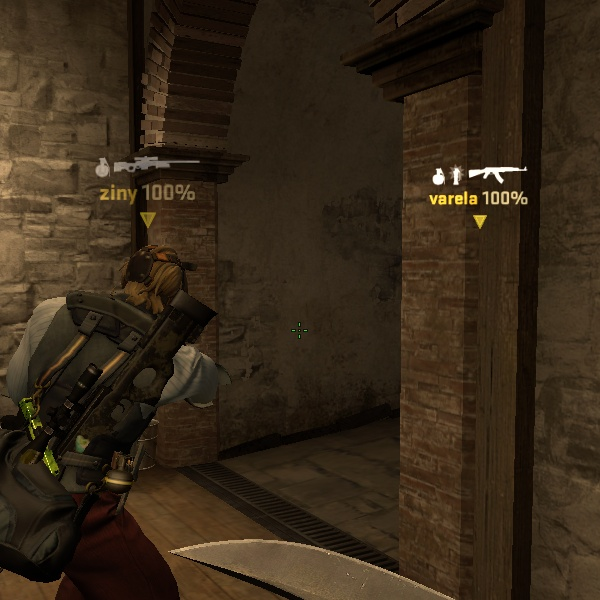t_head: (98, 233, 200, 321)
